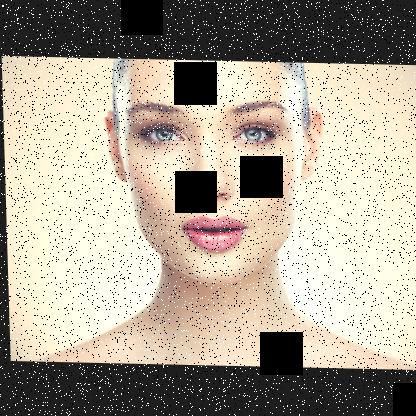Female: (102, 56, 326, 285)
